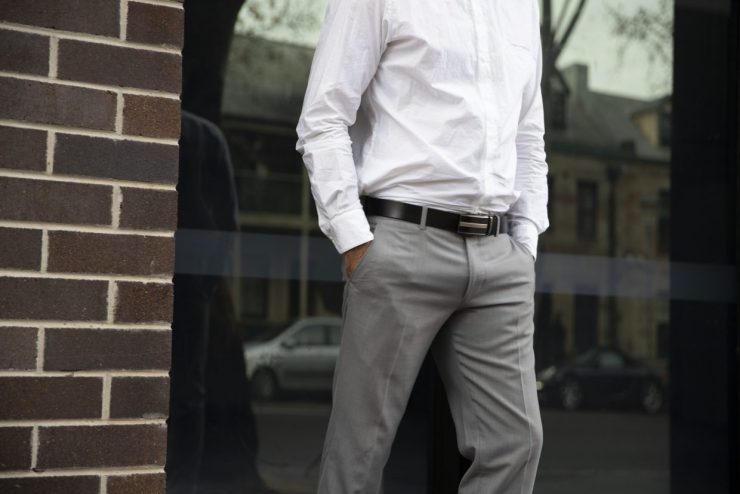F_belt: (356, 183, 523, 238)
F_dress pants: (310, 195, 550, 494)
F_shirt: (291, 1, 553, 233)
